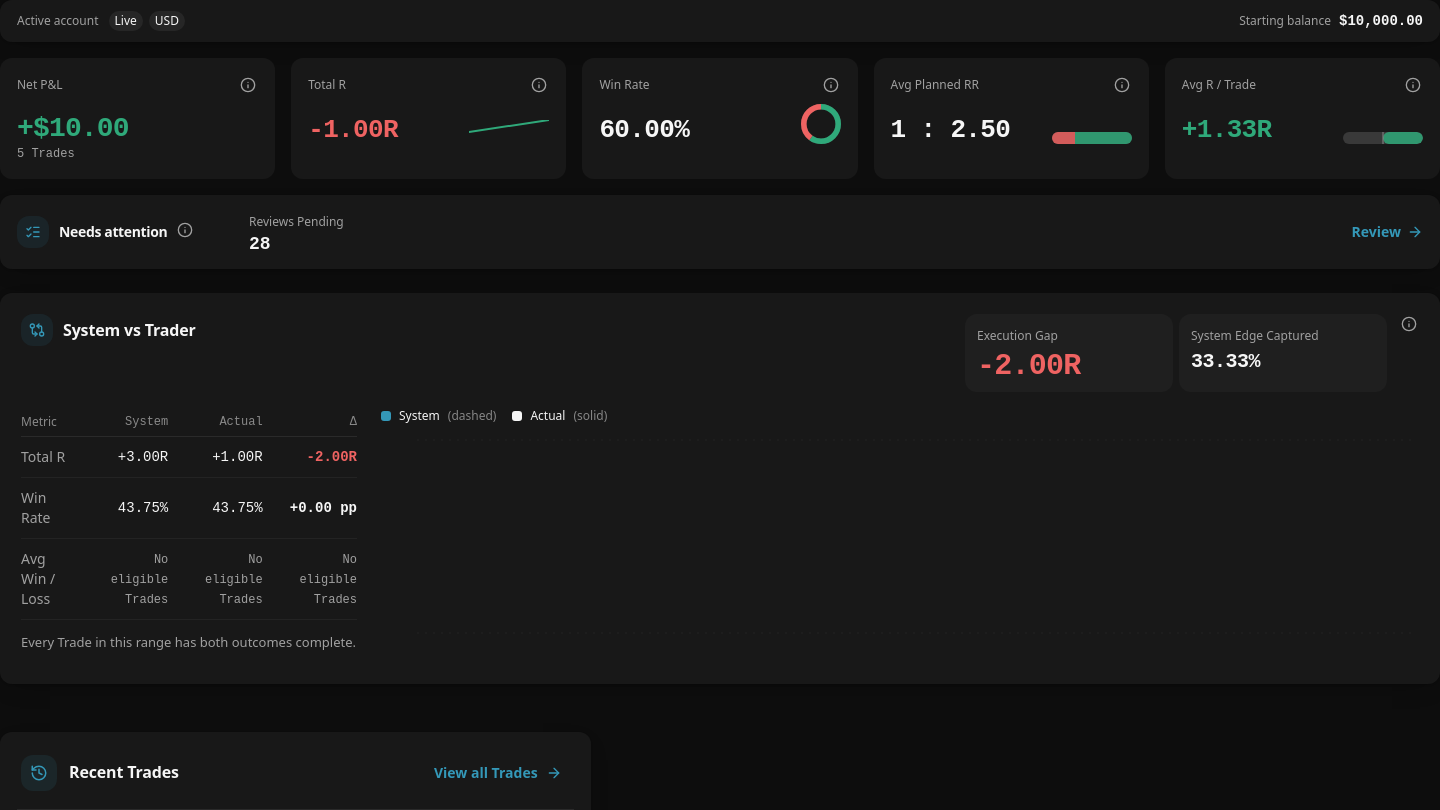
Test: RealDashboard › states that Needs Attention spans the workspace and ignores the date range
This screenshot has width=1440, height=810.
Click the button named "About Needs attention": (185, 230) 171,216 -> 199,244
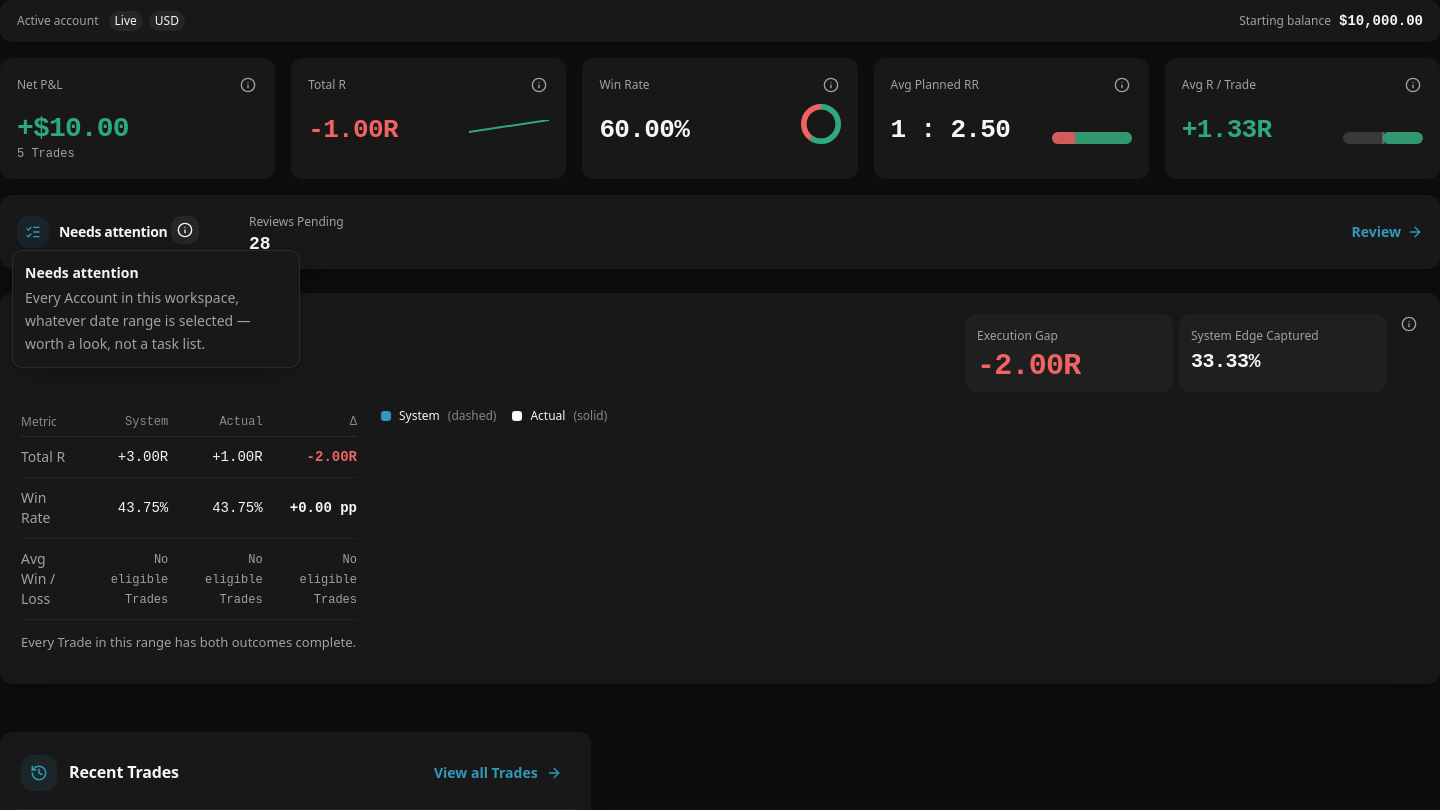
Result: the text "whatever date range is selected" is shown at 25,288 -> 251,352
